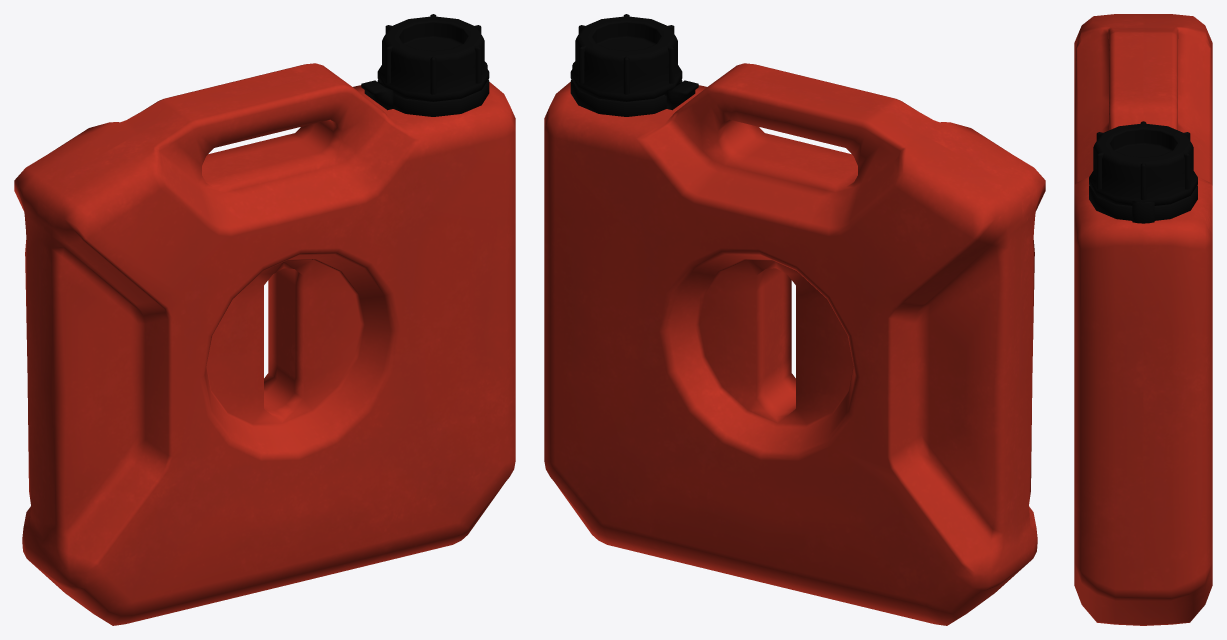
Rendered from gasoline.glb.
3 renders of one model, left to right at view 1: azimuth 30°, elevation 25°; view 2: azimuth 150°, elevation 25°; view 3: azimuth 270°, elevation 25°, orthographic. The views are drawn at different scales.
Parts seen in each view (by area): view 1: jerrycan_geo_low, surface01_geo_low, surface04_geo_low, surface06_geo_low; view 2: jerrycan_geo_low, surface01_geo_low, surface04_geo_low, surface06_geo_low; view 3: jerrycan_geo_low, surface01_geo_low, surface04_geo_low, surface06_geo_low, surface05_geo_low.
Part boxes in pixels (x1,y1,x2,y2): jerrycan_geo_low: (14, 63, 515, 625); surface01_geo_low: (377, 16, 489, 101); surface04_geo_low: (377, 79, 489, 116); surface06_geo_low: (385, 14, 481, 94); jerrycan_geo_low: (544, 63, 1045, 625); surface01_geo_low: (570, 16, 682, 101); surface04_geo_low: (570, 79, 682, 116); surface06_geo_low: (578, 14, 674, 94); jerrycan_geo_low: (1074, 14, 1212, 625); surface01_geo_low: (1089, 123, 1197, 205); surface04_geo_low: (1089, 185, 1197, 220); surface06_geo_low: (1096, 121, 1190, 200); surface05_geo_low: (1132, 201, 1154, 223).
Bounding box in the file's own units: 0.3002 × 0.3069 × 0.08.
1 material, 1 textured.
